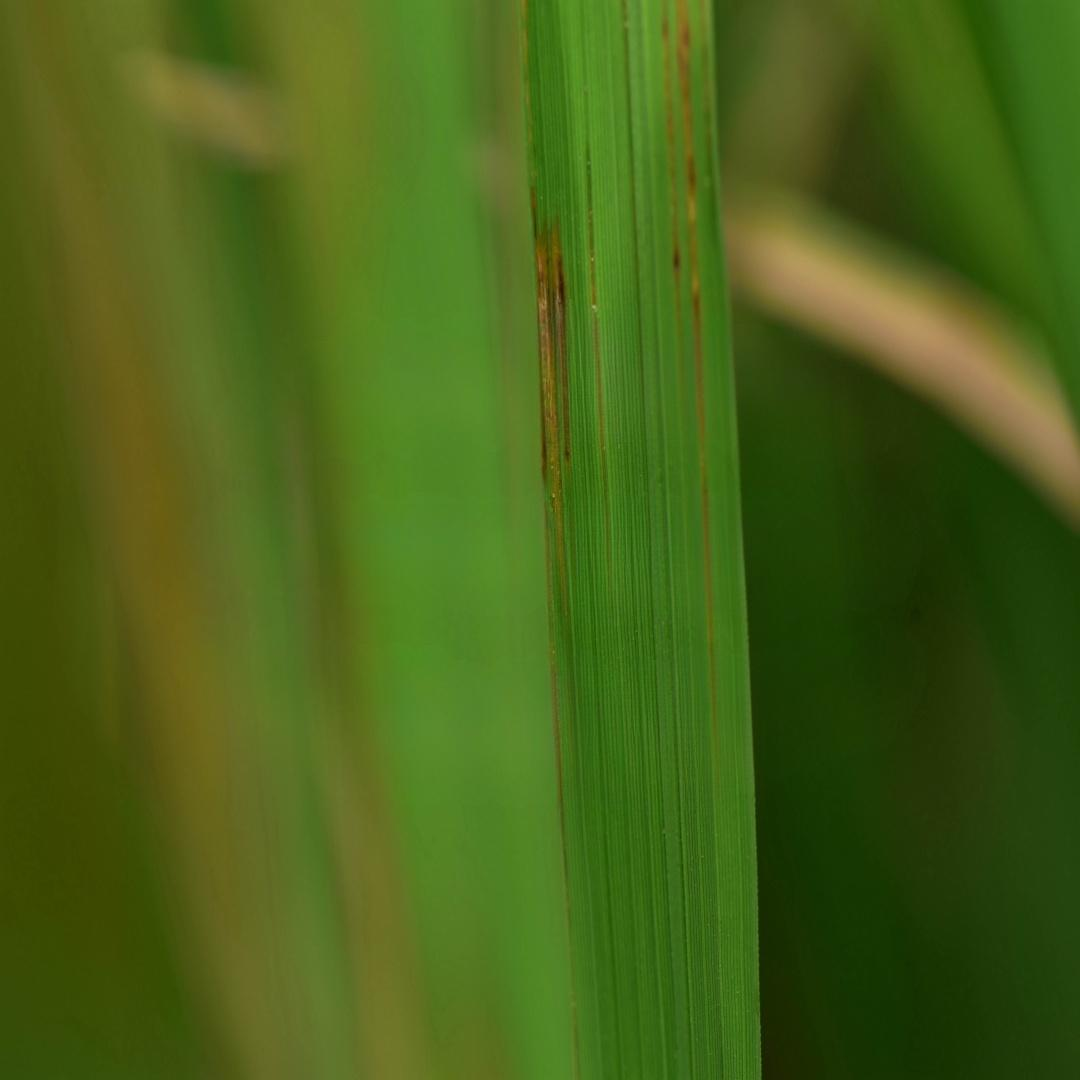BLS: (675, 0, 713, 704), (532, 186, 571, 620), (583, 141, 612, 575), (619, 0, 645, 402), (660, 0, 681, 317)
LEAF: (522, 0, 760, 1079)
